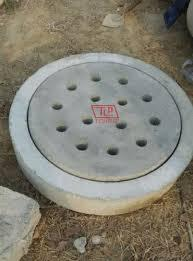fake manhole: (0, 30, 193, 232)
